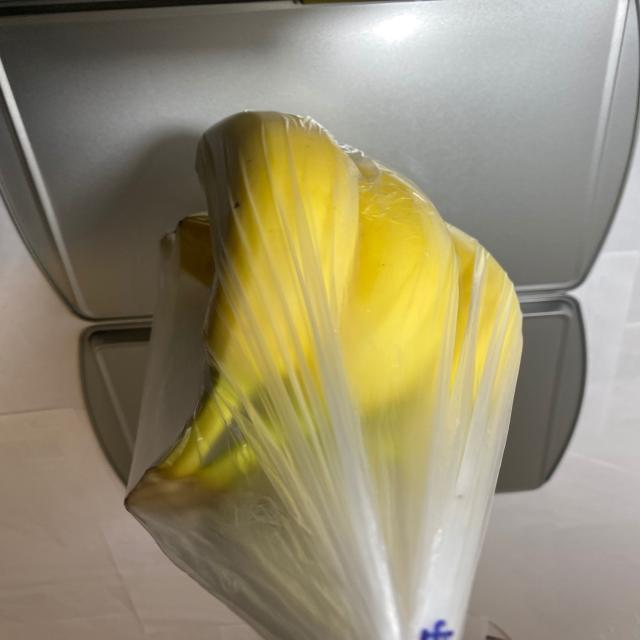banana: (120, 102, 524, 581)
